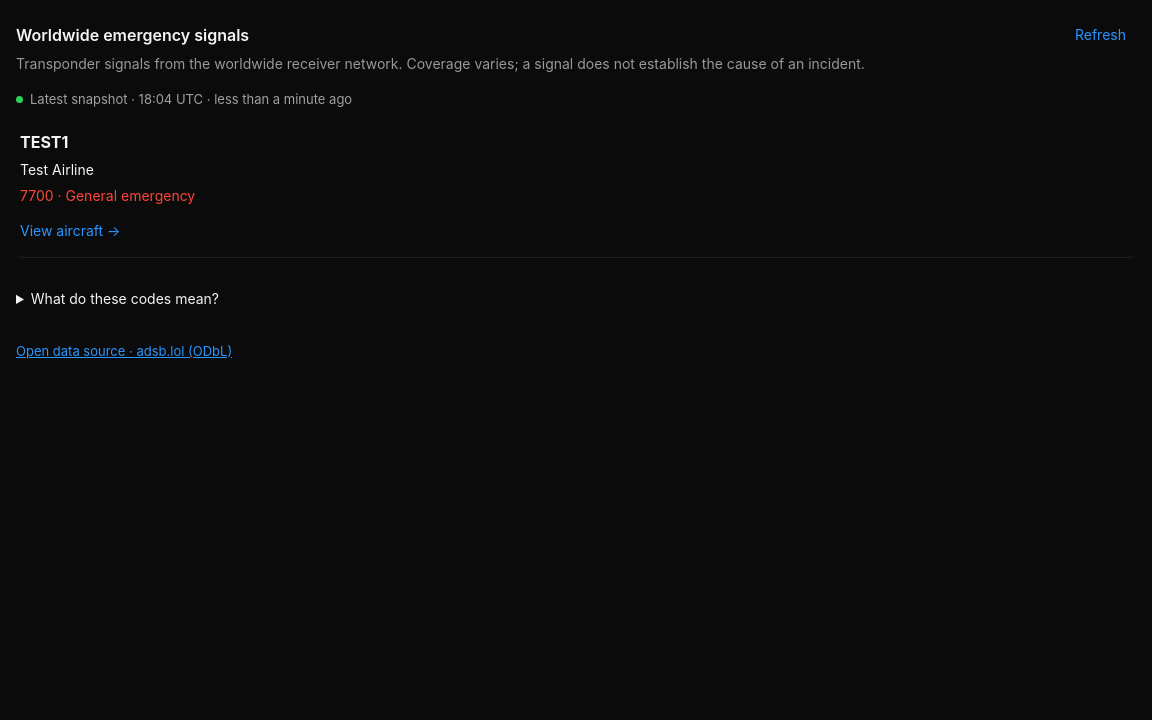
opens a fresh global signal and explains the code
Click the button "TEST1 Test Airline 7700 · General emergency View aircraft →" at (576, 186), box top-left (16, 114), bottom-right (1136, 258)
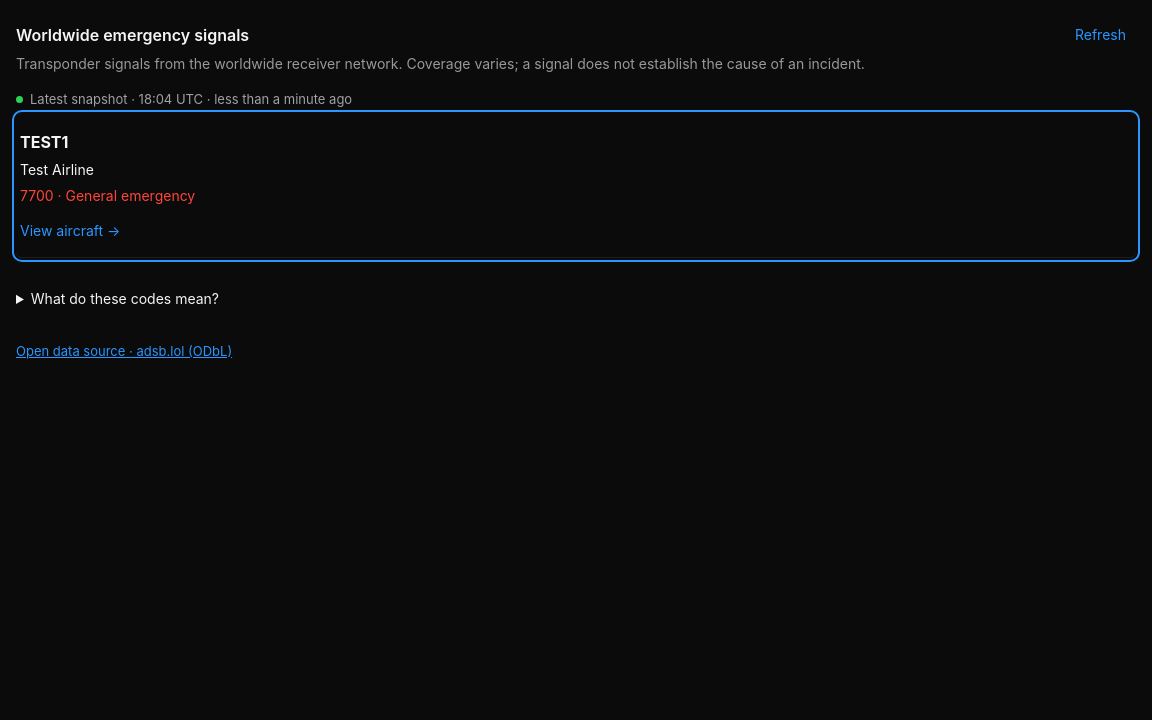
Expected: the text "Latest snapshot · 18:04 UTC · less than a minute ago" is shown, top-left (16, 91), bottom-right (352, 107)
Click the heading "What do these codes mean?" at (125, 298), box top-left (31, 290), bottom-right (219, 306)
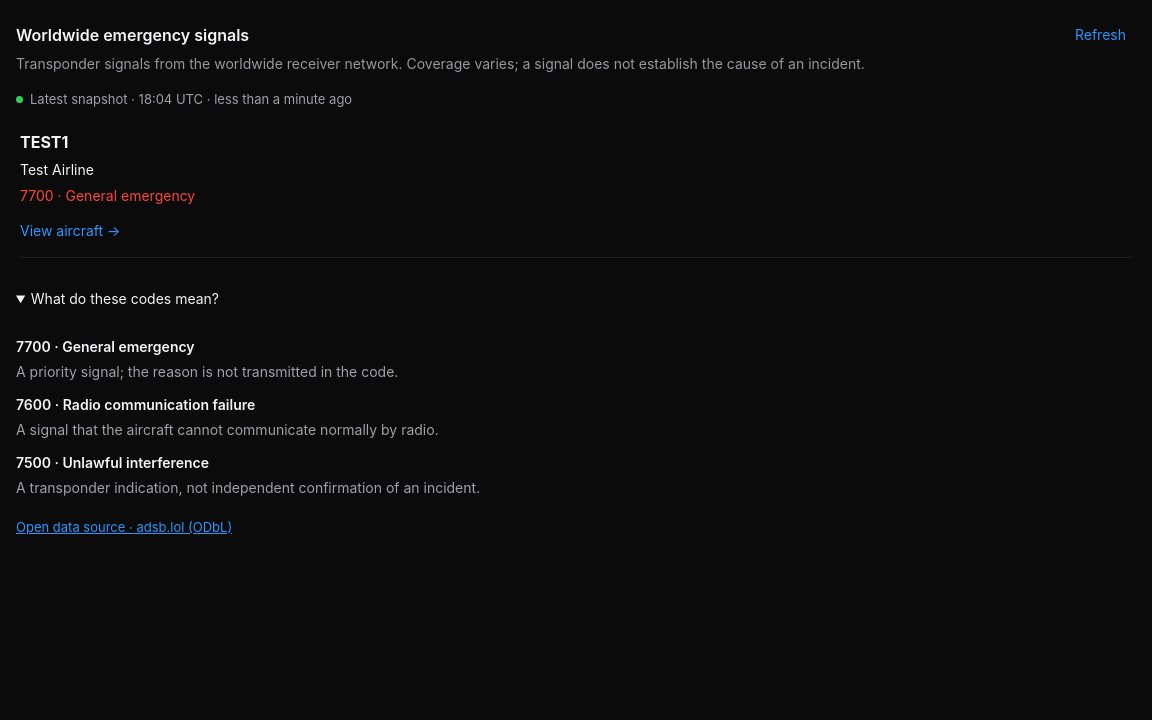
Expected: the text "reason is not transmitted" is shown, top-left (16, 362), bottom-right (398, 380)
